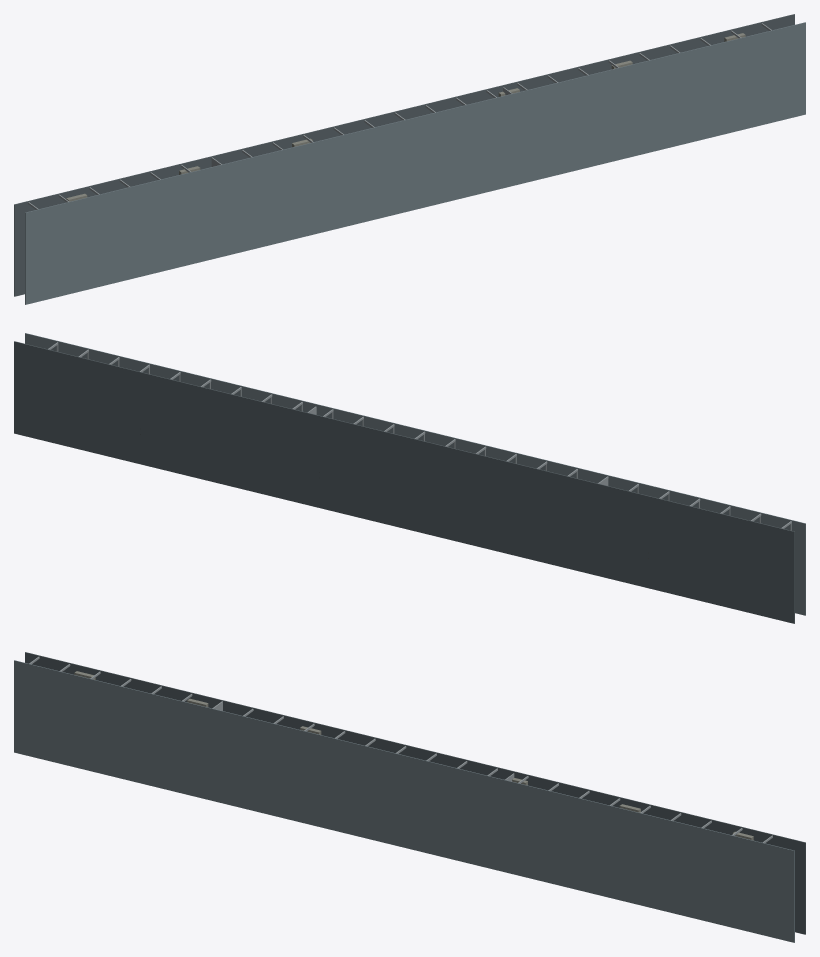
File: Enterprise_CV6_1942_Hangar_Interior.glb
3 renders of one model, top to bottom at view 1: azimuth 30°, elevation 25°; view 2: azimuth 150°, elevation 25°; view 3: azimuth 330°, elevation 25°, orthographic.
Visible parts, largest first — view 1: HangarModule_Ceiling, HangarModule_Floor; view 2: HangarModule_Floor, HangarModule_Ceiling; view 3: HangarModule_Ceiling, HangarModule_Floor.
Boxes of the visible parts, bbox=[...] form: HangarModule_Ceiling: bbox=[25, 22, 805, 304]; HangarModule_Floor: bbox=[14, 14, 794, 296]; HangarModule_Floor: bbox=[14, 341, 794, 623]; HangarModule_Ceiling: bbox=[25, 333, 805, 615]; HangarModule_Ceiling: bbox=[14, 660, 794, 942]; HangarModule_Floor: bbox=[25, 652, 805, 934].
Bounding box in the file's own units: 166 × 18.7 × 4.28.
